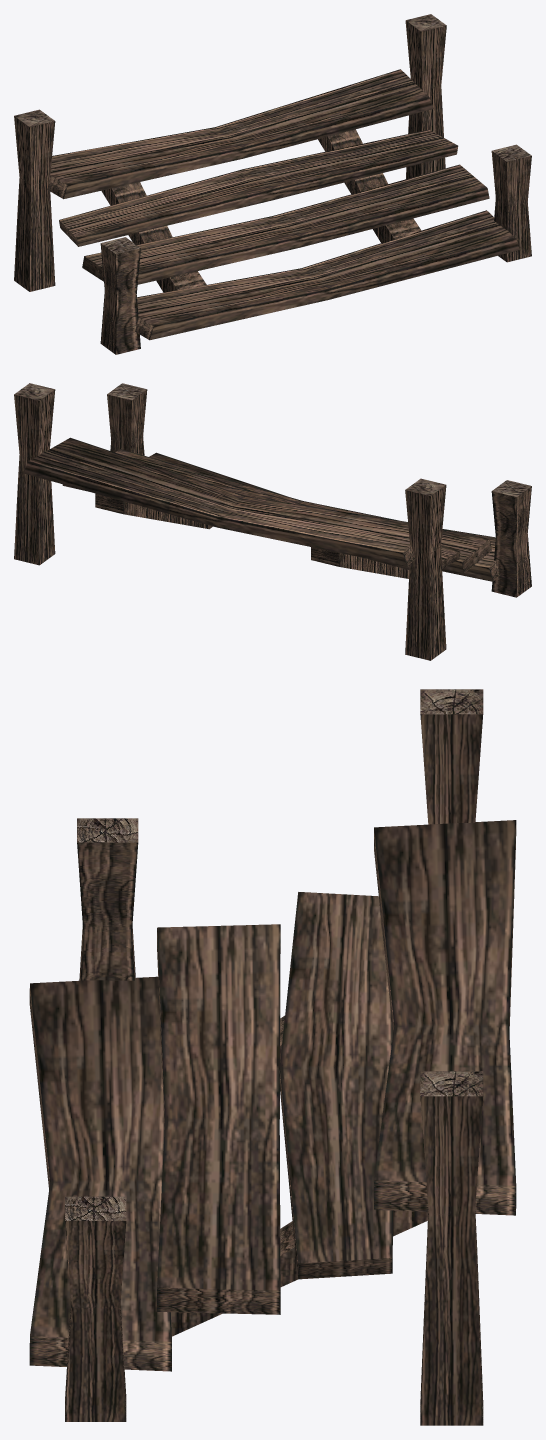
Rendered from CB_LOOKOUT_STAIRCASE.fbx.
The picture shows the model from 3 angles, top to bottom: view 1: azimuth 30°, elevation 25°; view 2: azimuth 150°, elevation 25°; view 3: azimuth 270°, elevation 25°; orthographic projection. The views are drawn at different scales.
Parts seen in each view (by area): view 1: CB_LOOKOUT_STAIRCASE; view 2: CB_LOOKOUT_STAIRCASE; view 3: CB_LOOKOUT_STAIRCASE.
Boxes of the visible parts, x1=… form: CB_LOOKOUT_STAIRCASE: x1=14, y1=14, x2=531, y2=354; CB_LOOKOUT_STAIRCASE: x1=14, y1=383, x2=531, y2=660; CB_LOOKOUT_STAIRCASE: x1=29, y1=689, x2=516, y2=1425.
Bounding box in the file's own units: 27381 × 10337 × 13842.
Materials: 2 (2 with a texture image).
